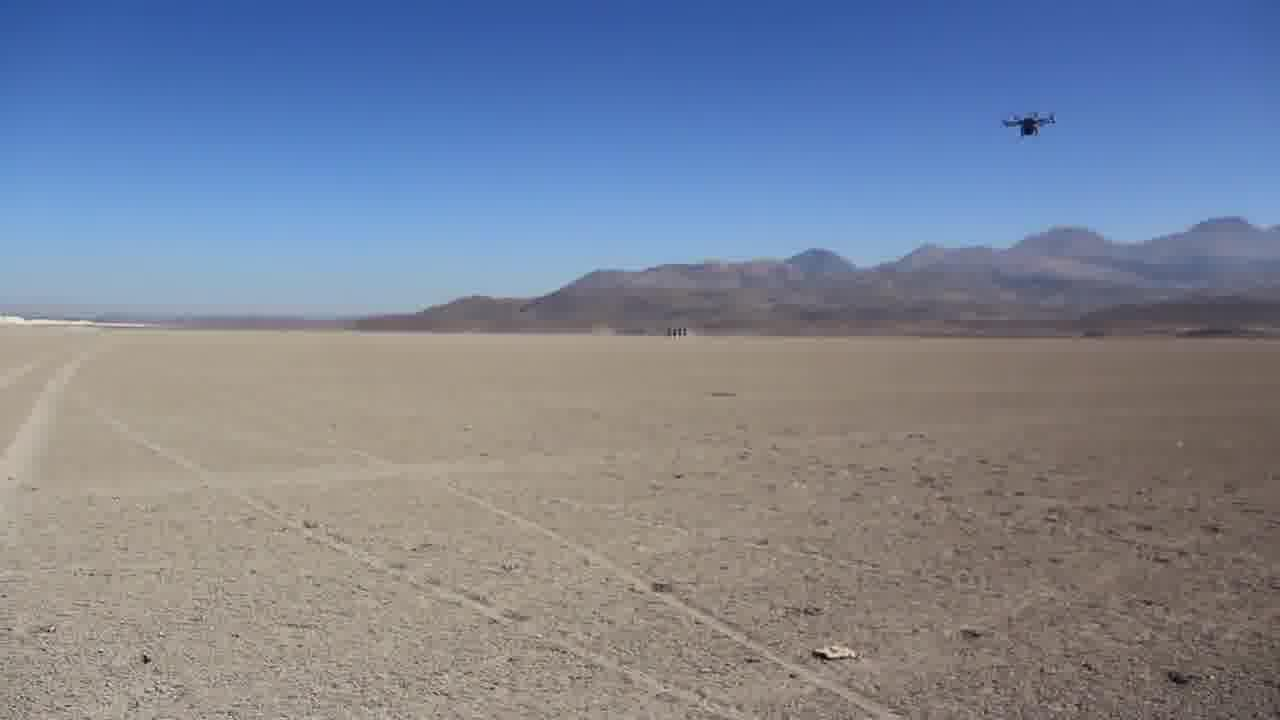Drone: (992, 100, 1066, 150)
